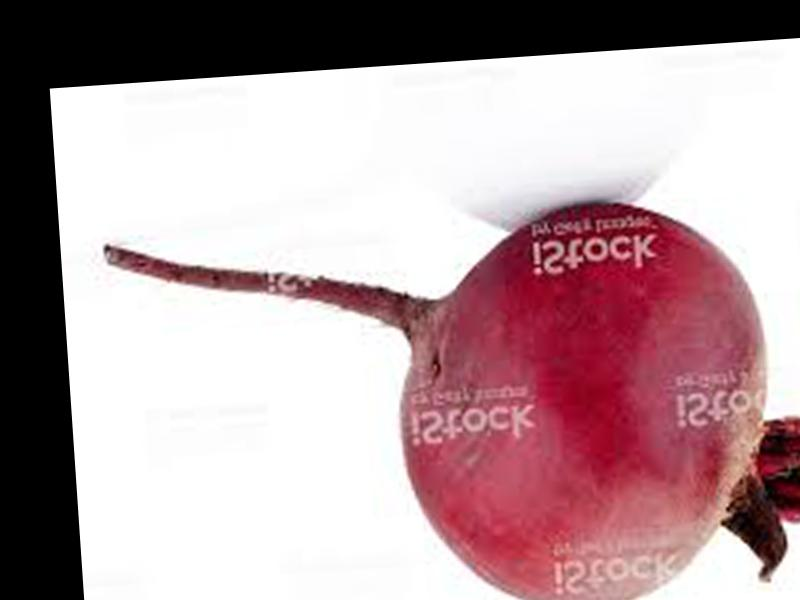Beet: (106, 189, 800, 600)
